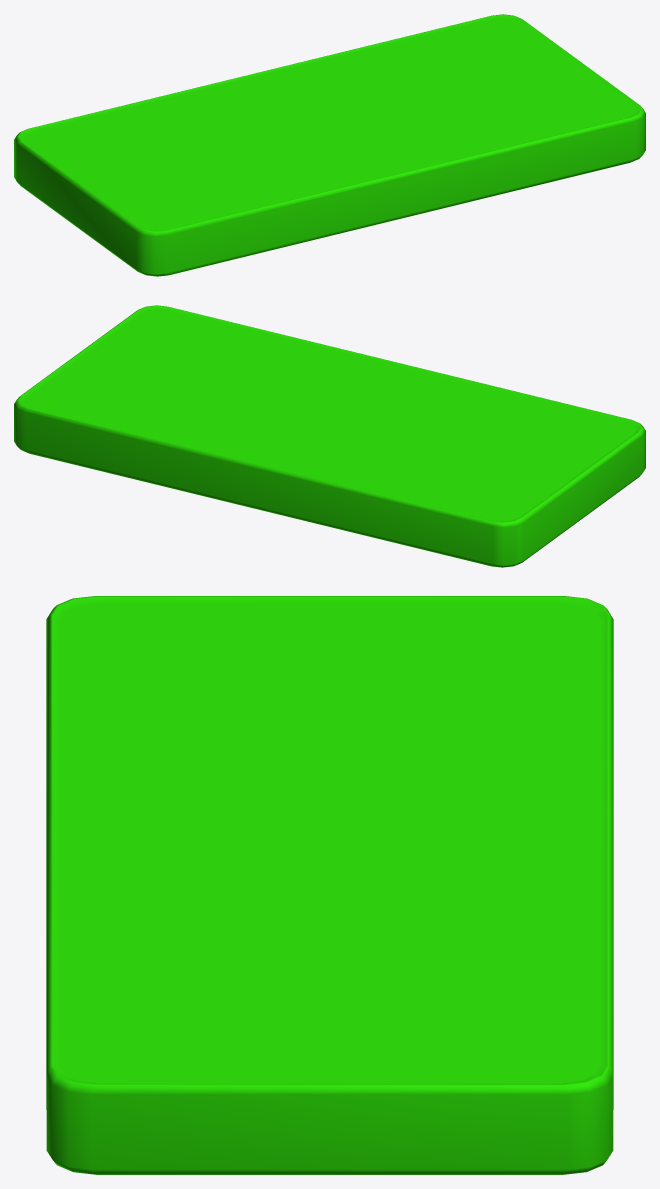
File: Matress_02_Lod0.fbx
3 renders of one model, top to bottom at view 1: azimuth 30°, elevation 25°; view 2: azimuth 150°, elevation 25°; view 3: azimuth 270°, elevation 25°, orthographic. The views are drawn at different scales.
Visible parts, largest first — view 1: Matress_02_Lod0; view 2: Matress_02_Lod0; view 3: Matress_02_Lod0.
Part boxes in pixels (x1,y1,x2,y2): Matress_02_Lod0: [14, 14, 645, 276]; Matress_02_Lod0: [14, 305, 645, 567]; Matress_02_Lod0: [46, 596, 613, 1174].
Size of the model in its own units: 206 by 17.74 by 100.
